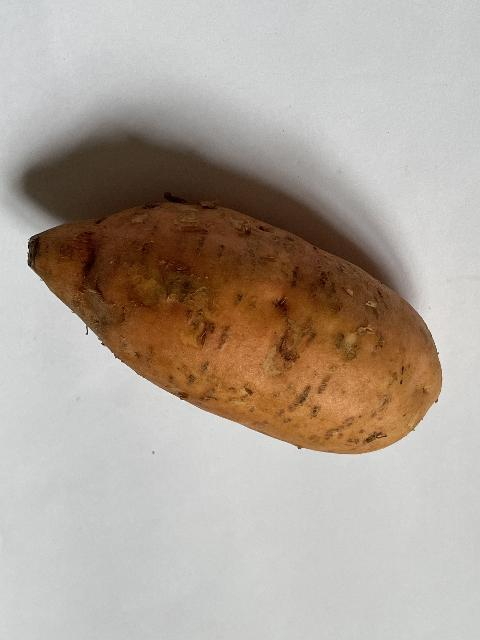sweetpotato: (27, 198, 443, 456)
